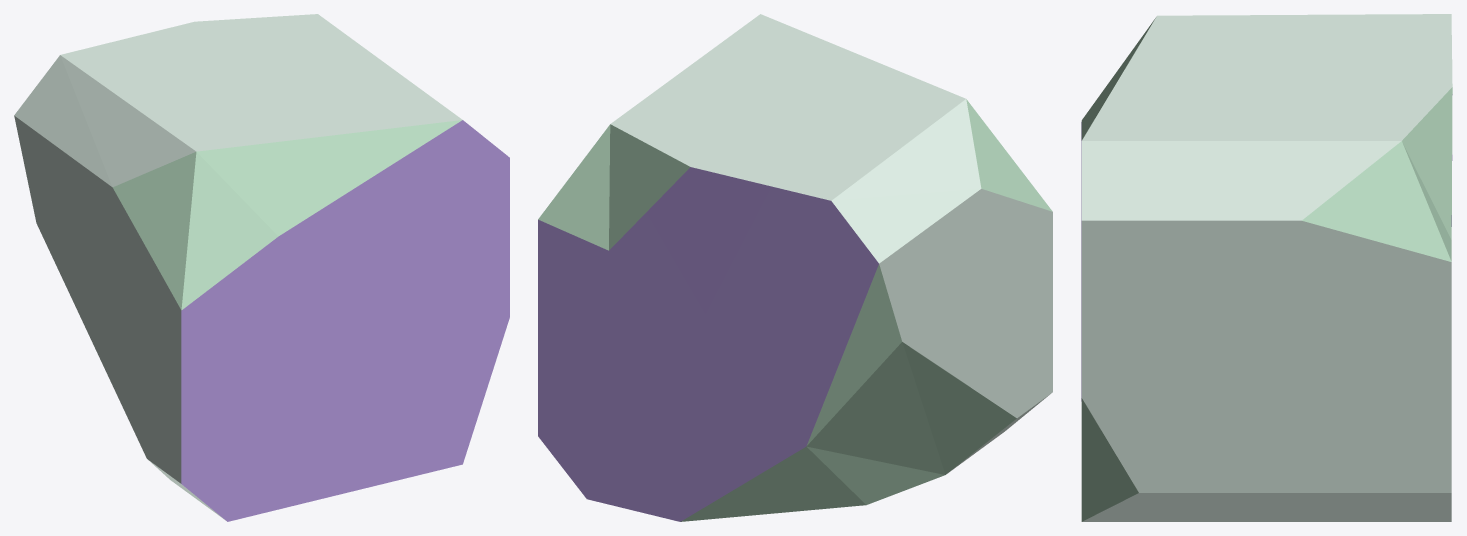
The picture shows the model from 3 angles, left to right: view 1: azimuth 30°, elevation 25°; view 2: azimuth 150°, elevation 25°; view 3: azimuth 270°, elevation 25°; orthographic projection. The views are drawn at different scales.
Parts seen in each view (by area): view 1: Object31; view 2: Object31; view 3: Object31.
Part boxes in pixels (<box>): Object31: <box>14,14,509,521</box>; Object31: <box>538,14,1052,521</box>; Object31: <box>1081,14,1452,521</box>.
Size of the model in its own units: 7415 by 7433 by 6562.
